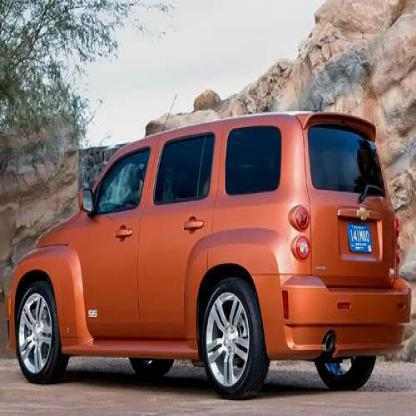Vehicle: (5, 106, 415, 406)
